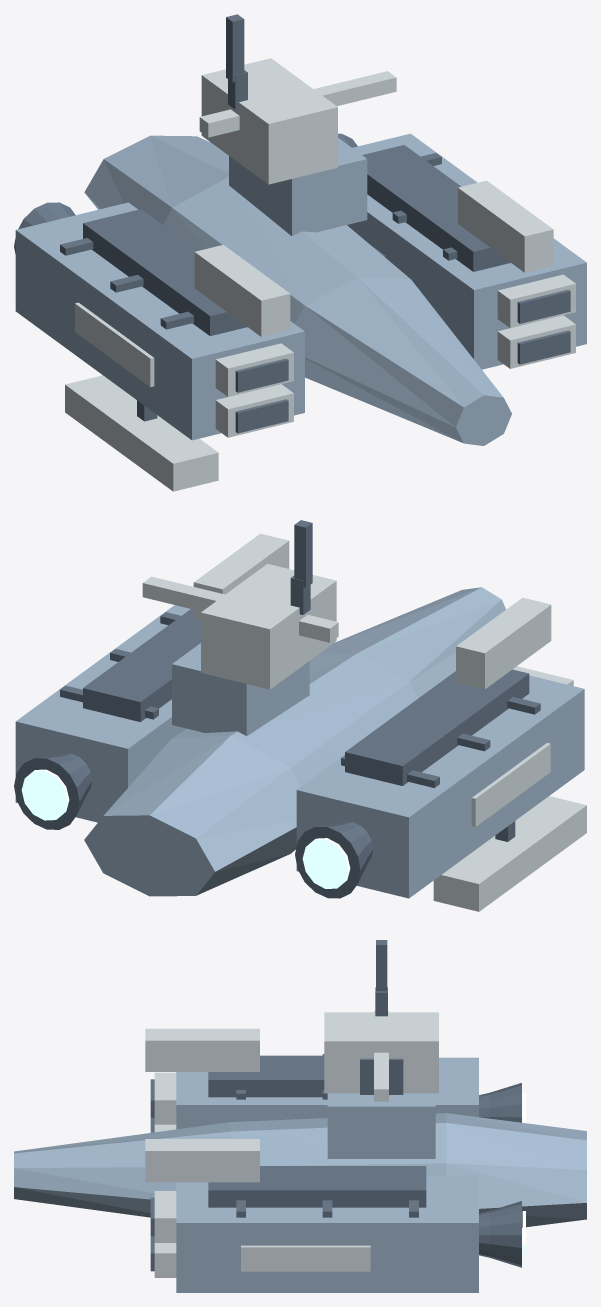
The picture shows the model from 3 angles, top to bottom: view 1: azimuth 30°, elevation 25°; view 2: azimuth 150°, elevation 25°; view 3: azimuth 270°, elevation 25°; orthographic projection. The views are drawn at different scales.
Size of the model in its own units: 14.14 by 11.54 by 19.97.
